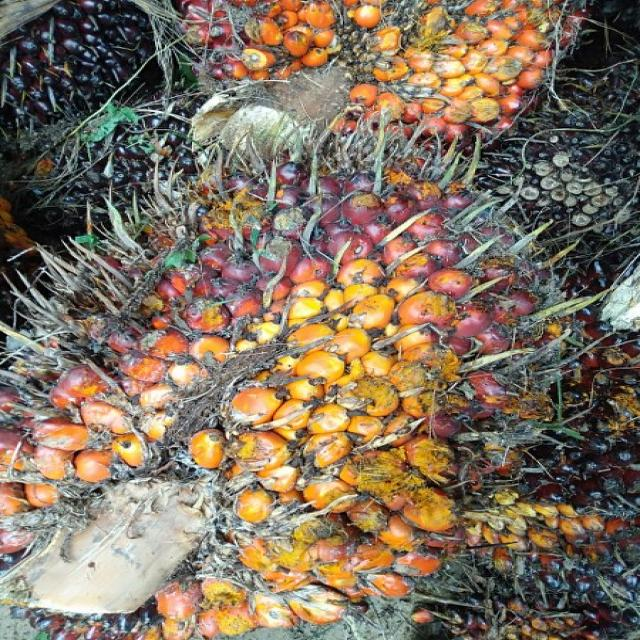fraksi 1: (0, 96, 602, 640)
